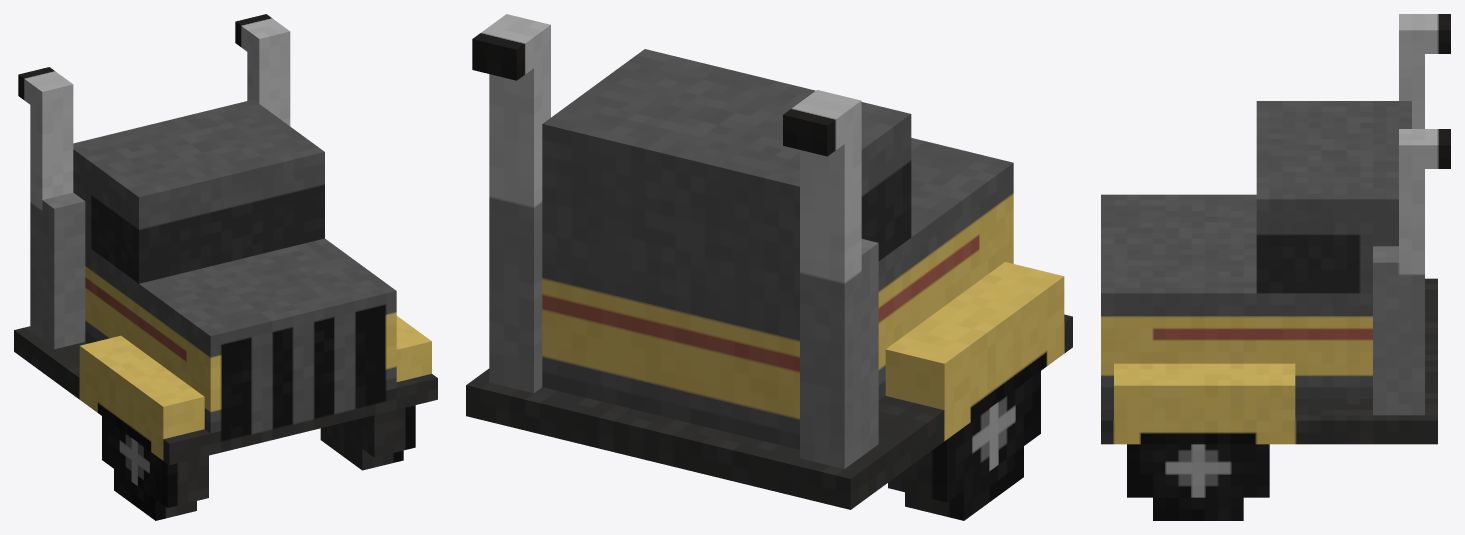
Rendered from carA.fbx.
The picture shows the model from 3 angles, left to right: view 1: azimuth 30°, elevation 25°; view 2: azimuth 150°, elevation 25°; view 3: azimuth 270°, elevation 25°; orthographic projection. The views are drawn at different scales.
Parts seen in each view (by area): view 1: carA; view 2: carA; view 3: carA.
Part boxes in pixels (left/top/right/bottom): carA: left=14, top=14, right=437, bottom=520; carA: left=466, top=14, right=1072, bottom=520; carA: left=1101, top=14, right=1450, bottom=520.
Size of the model in its own units: 26 by 32 by 27.
